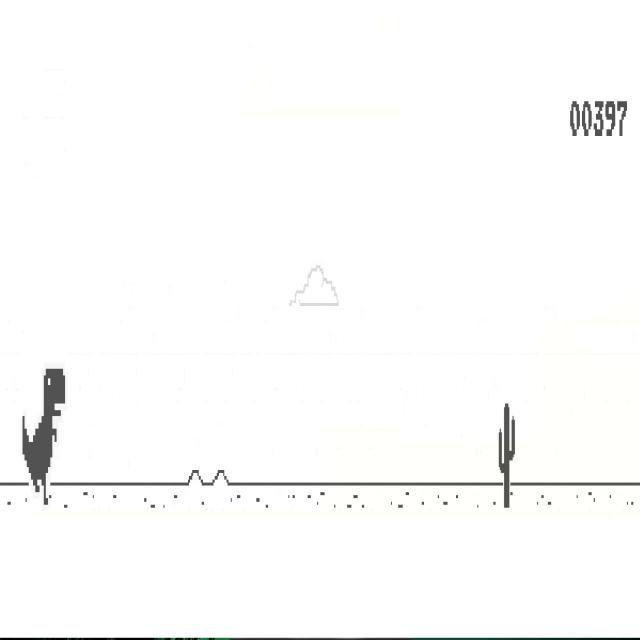cacto: (498, 401, 515, 511)
dino: (22, 366, 66, 507)
